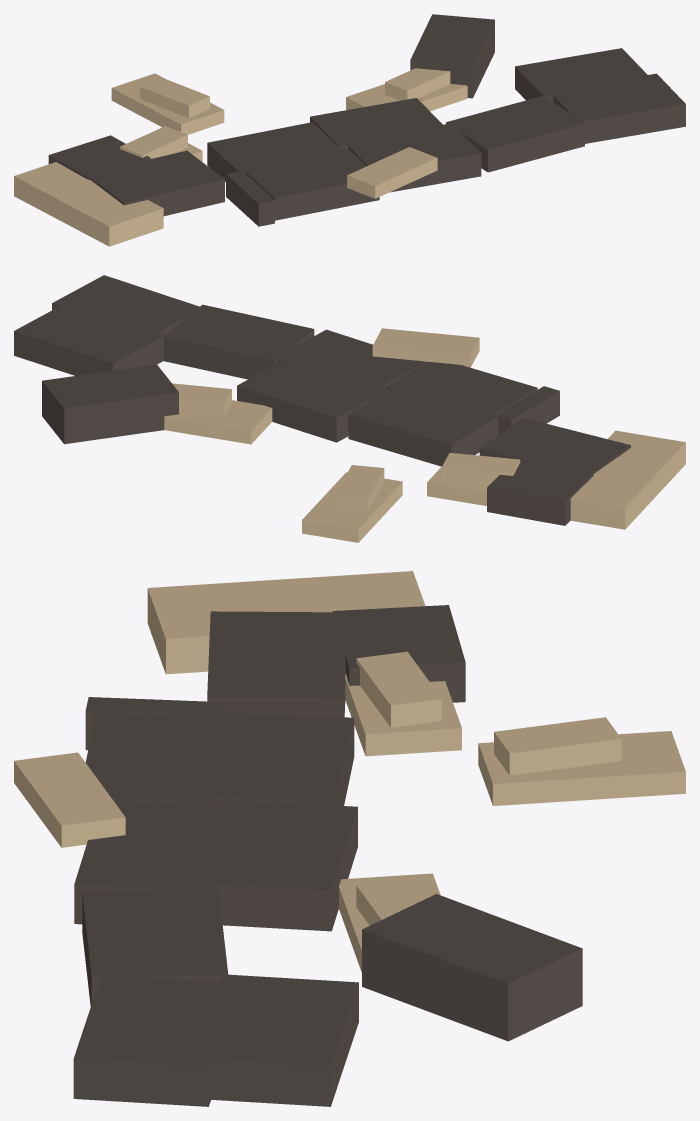
Rendered from SM_PretilEsquinaPaso_v4_Red_e3_Brecha_LOD0.fbx.
3 views of the same model, one above another, from view 1: azimuth 30°, elevation 25°; view 2: azimuth 150°, elevation 25°; view 3: azimuth 270°, elevation 25° (orthographic). The views are drawn at different scales.
Parts seen in each view (by area): view 1: SM_pretil_azotea_v59_LOD0; view 2: SM_pretil_azotea_v59_LOD0; view 3: SM_pretil_azotea_v59_LOD0.
Part boxes in pixels (x1,y1,x2,y2): SM_pretil_azotea_v59_LOD0: (14,14,685,246); SM_pretil_azotea_v59_LOD0: (14,275,685,542); SM_pretil_azotea_v59_LOD0: (14,571,685,1106).
Bounding box in the file's own units: 4.85 × 0.26 × 2.75.
